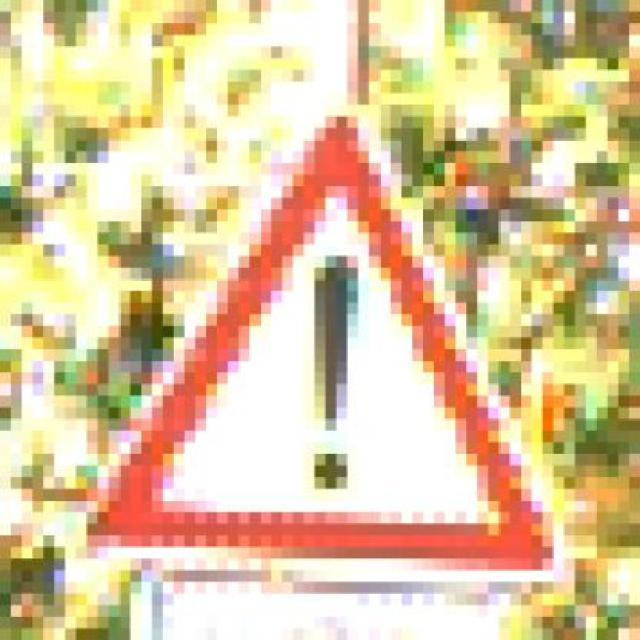Attention Please-: (76, 93, 564, 582)
